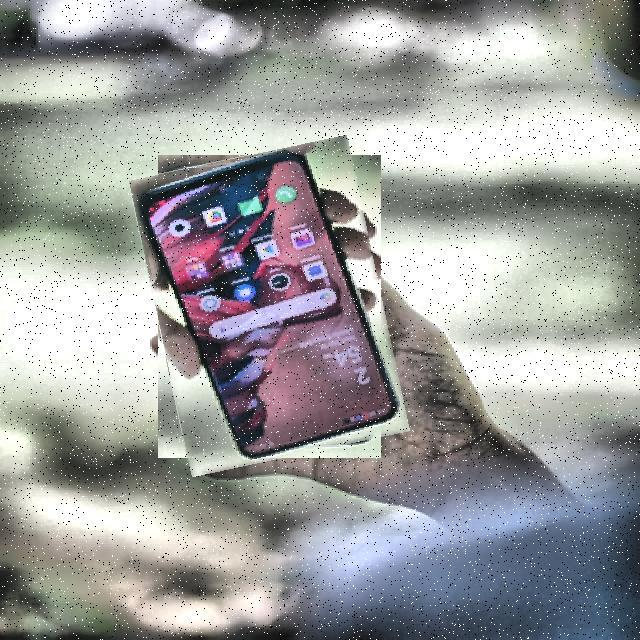Phone: (142, 145, 396, 468)
